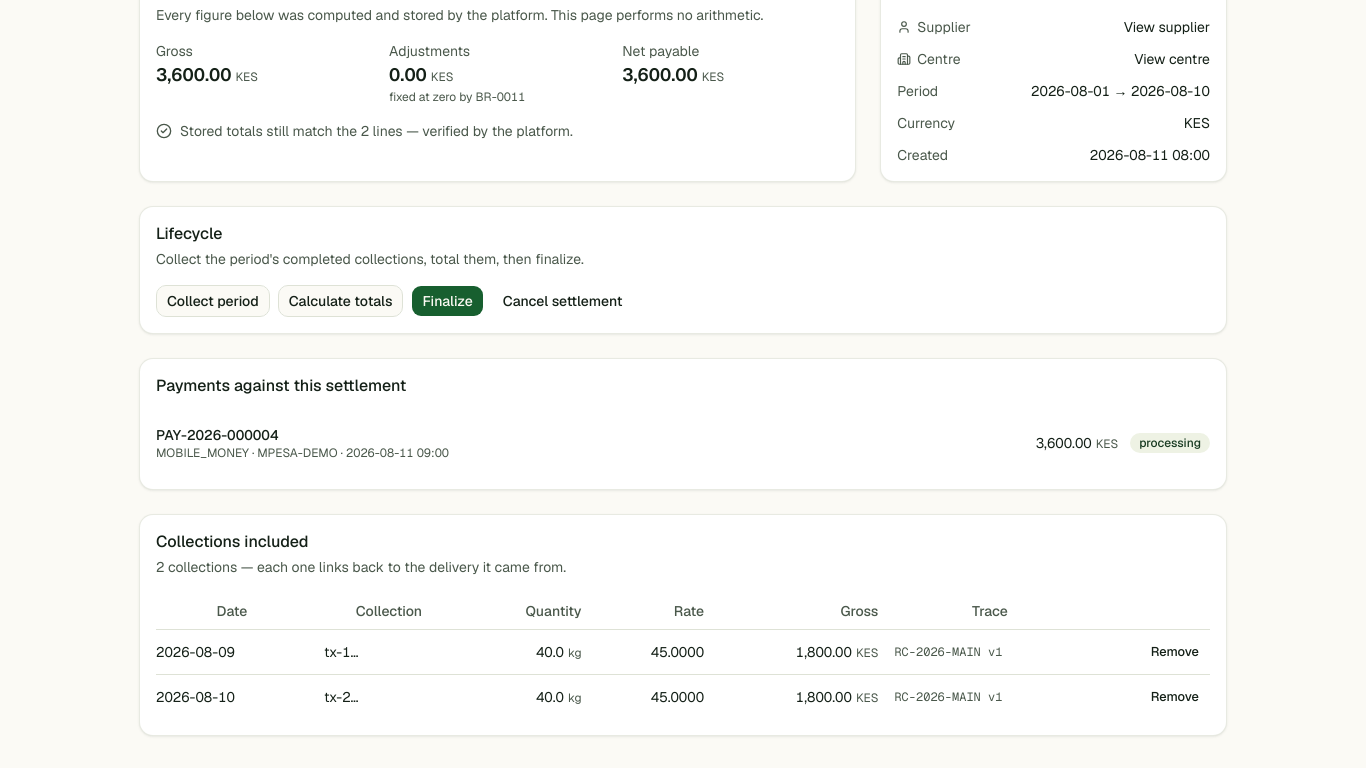
Test case: settlement detail › surfaces the platform's refusal rather than inventing its own
The width and height of the screenshot is (1366, 768).
(page scrolled)
Click the button "Remove" in the row of "2026-08-09".
click(1175, 652)  # box [1140, 638, 1210, 666]
(page scrolled)
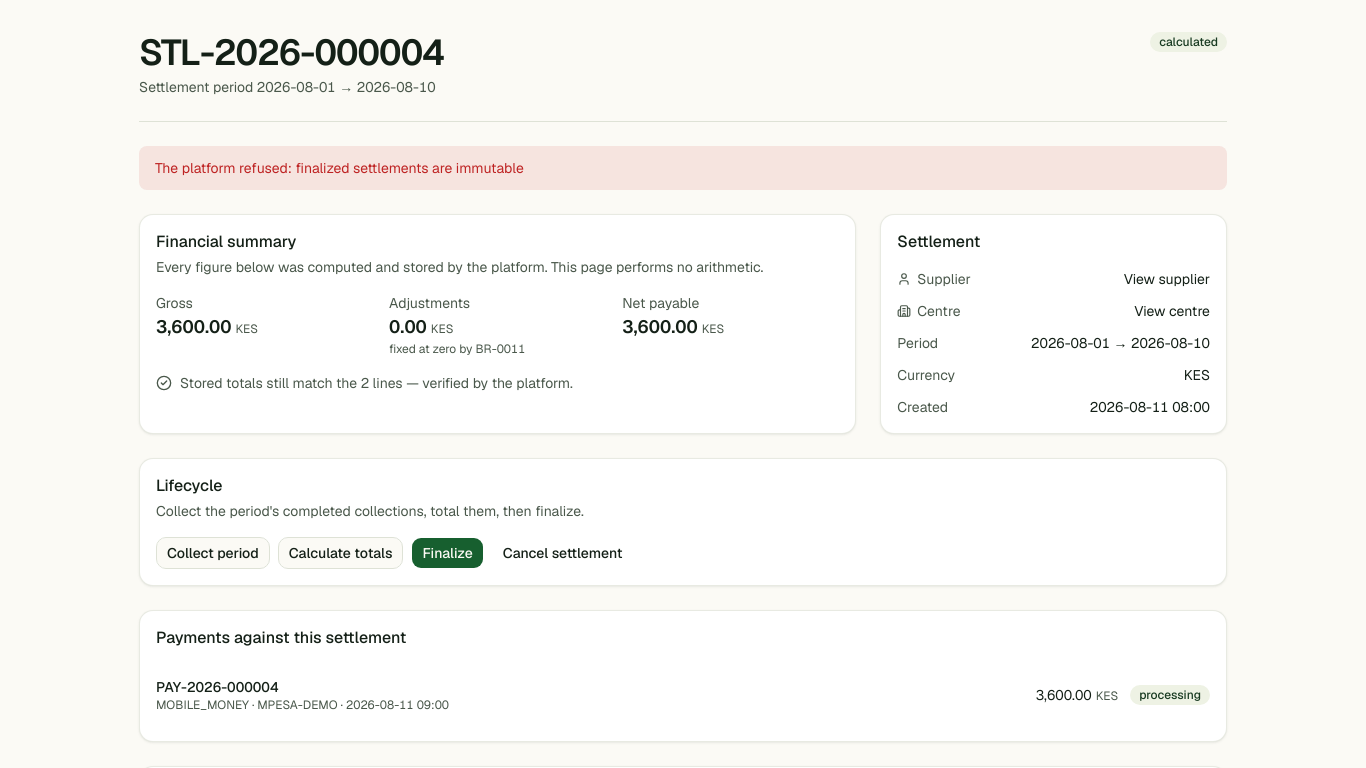
Expected: the text "The platform refused: finalized settlements are immutable" is shown, [139, 146, 1227, 190]
